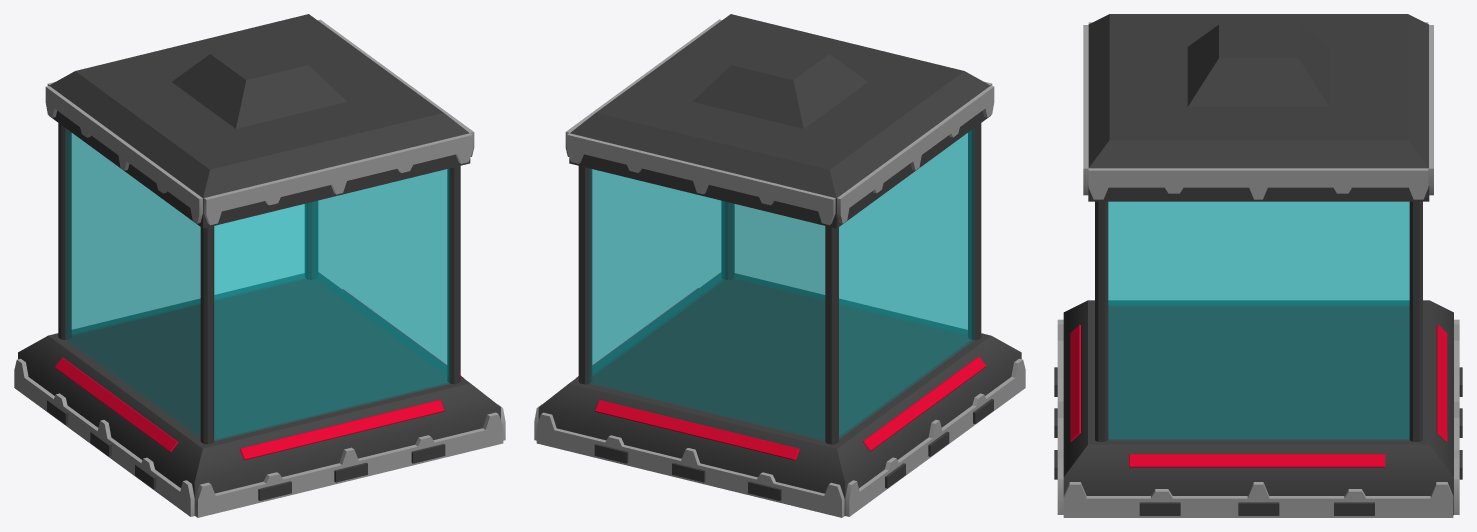
Rendered from prison.fbx.
3 views of the same model, side by side, from view 1: azimuth 30°, elevation 25°; view 2: azimuth 150°, elevation 25°; view 3: azimuth 270°, elevation 25° (orthographic). The views are drawn at different scales.
Visible parts, largest first — view 1: pCube1, pCube21, pCube24, pCube3, pCube20, pCube19, pCube2, pCube8, pCube4, pCube5, pCube7, pCube27 (+2 smaller); view 2: pCube1, pCube20, pCube24, pCube3, pCube21, pCube19, pCube10, pCube8, pCube6, pCube7, pCube4, pCube25 (+2 smaller); view 3: pCube24, pCube1, pCube3, pCube19, pCube9, pCube26, pCube5, pCube6, pCube2, pCube25, pCube27, pCube10 (+3 smaller).
Boxes of the visible parts, box(x1,y1,x2,y2) form: pCube1: box(18, 272, 500, 515); pCube21: box(214, 169, 449, 440); pCube24: box(65, 128, 446, 438); pCube3: box(49, 14, 470, 228); pCube20: box(72, 133, 304, 334); pCube19: box(45, 19, 474, 225); pCube2: box(195, 412, 503, 517); pCube8: box(14, 358, 194, 516); pCube4: box(200, 226, 214, 444); pCube5: box(447, 166, 460, 384); pCube7: box(58, 123, 71, 339); pCube27: box(240, 400, 444, 460); pCube1: box(538, 273, 1021, 515); pCube20: box(589, 169, 824, 440); pCube24: box(592, 128, 974, 438); pCube3: box(569, 14, 990, 228); pCube21: box(734, 133, 967, 334); pCube19: box(565, 19, 994, 224); pCube10: box(536, 412, 844, 517); pCube8: box(845, 358, 1025, 516); pCube6: box(578, 166, 592, 384); pCube7: box(825, 226, 838, 444); pCube4: box(968, 123, 981, 340); pCube25: box(595, 400, 799, 460); pCube24: box(1108, 201, 1409, 439); pCube1: box(1063, 300, 1453, 515); pCube3: box(1088, 14, 1429, 201); pCube19: box(1083, 22, 1433, 199); pCube9: box(1063, 482, 1453, 517); pCube26: box(1129, 454, 1385, 467); pCube5: box(1095, 201, 1108, 441); pCube6: box(1409, 201, 1422, 441); pCube2: box(1057, 319, 1063, 514); pCube25: box(1436, 324, 1447, 441); pCube27: box(1070, 324, 1080, 441); pCube10: box(1454, 319, 1459, 514).
Size of the model in its own units: 0.19 by 0.2012 by 0.19.
